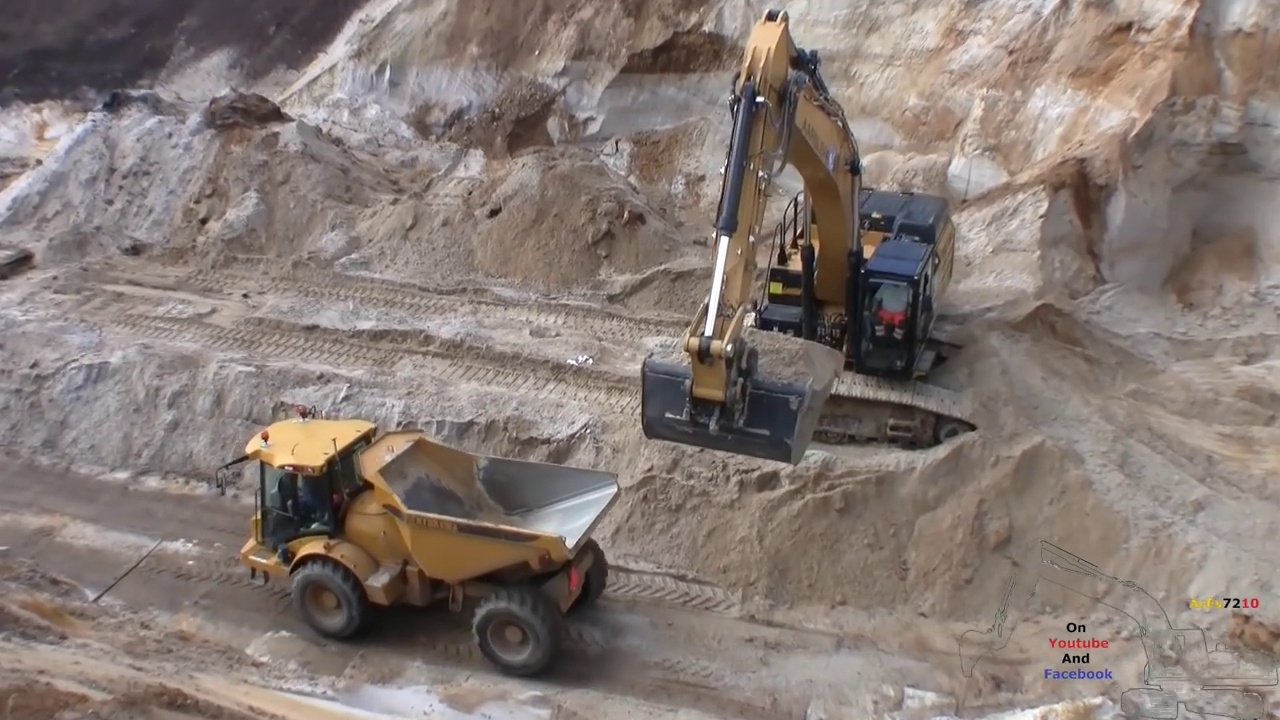dumper: (215, 409, 621, 677)
excavator: (640, 4, 985, 470)
